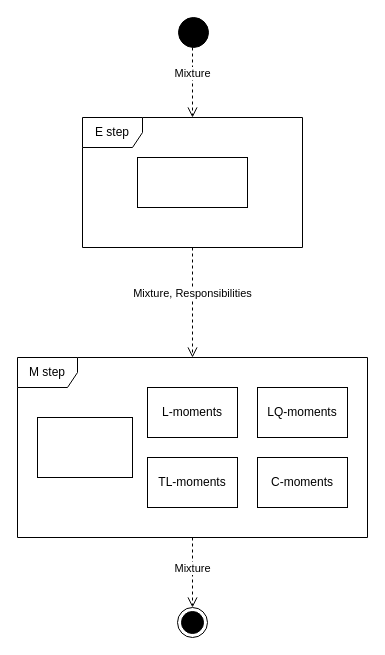
Some shapes in this 385 by 655 pixel diagram are drawn without their labels. The shapes that lost their labels are listed below. From the top down, each one's centre as x and y in pixels, then its label:
the point at 192,182: Responsibilities Step
the point at 84,447: Generalized Maximization
